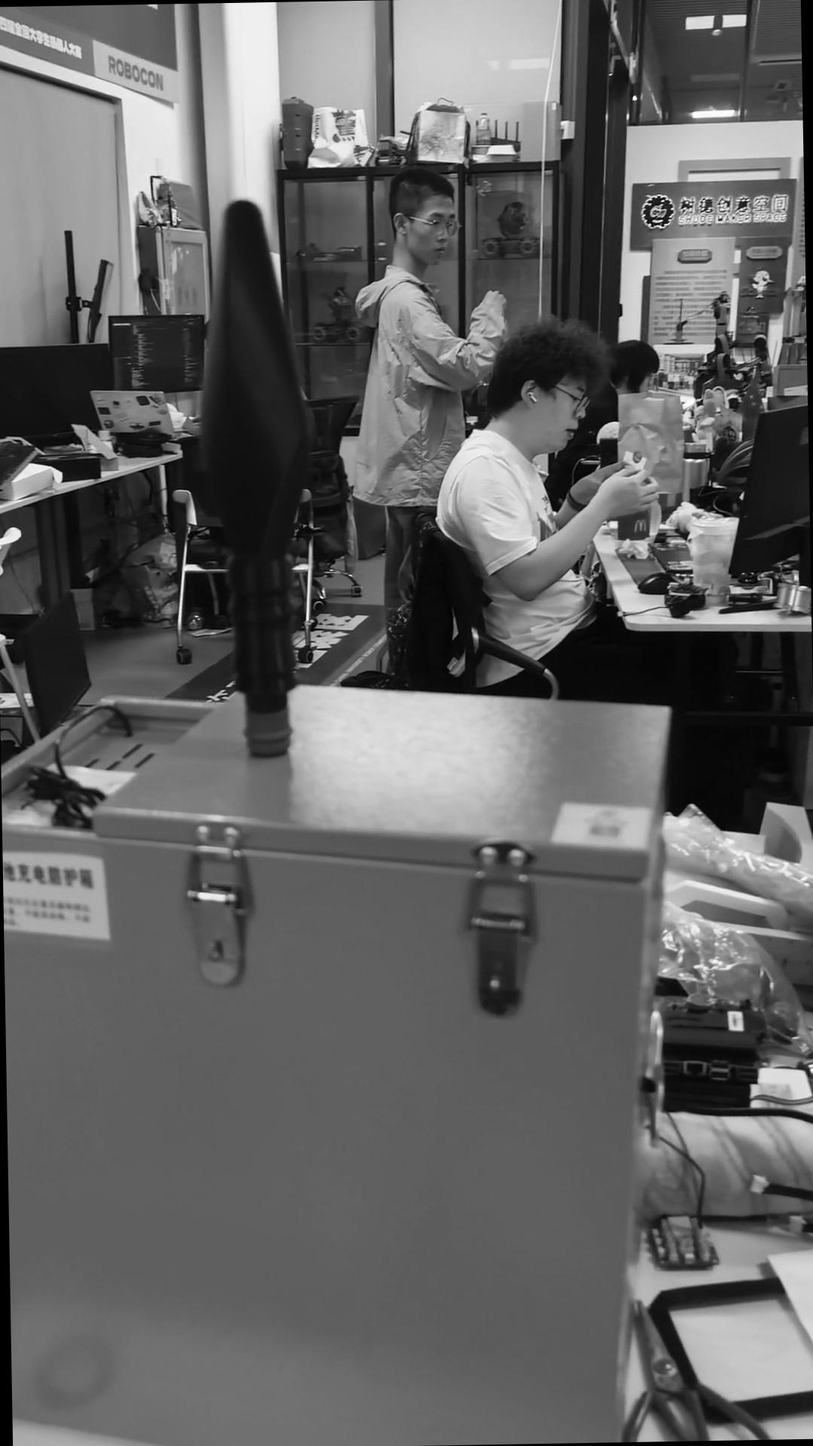base: (241, 711, 295, 758)
